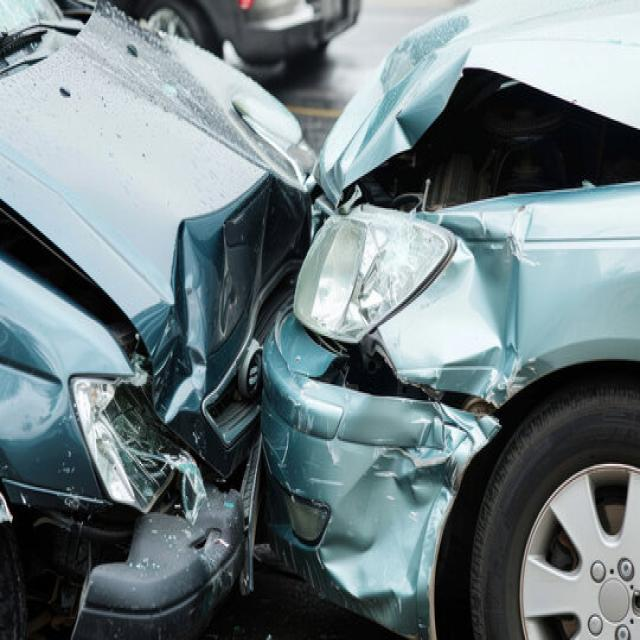car-minor-accident: (1, 0, 636, 634)
